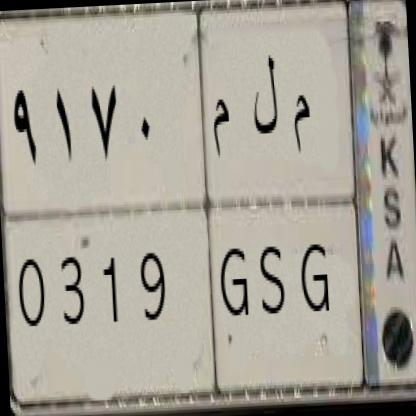english: (0, 184, 372, 411)
